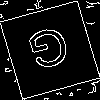G: (24, 25, 76, 80)
